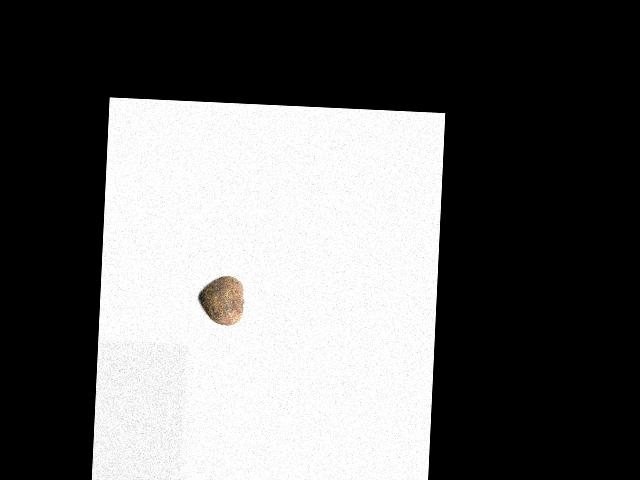beet: (197, 274, 244, 326)
